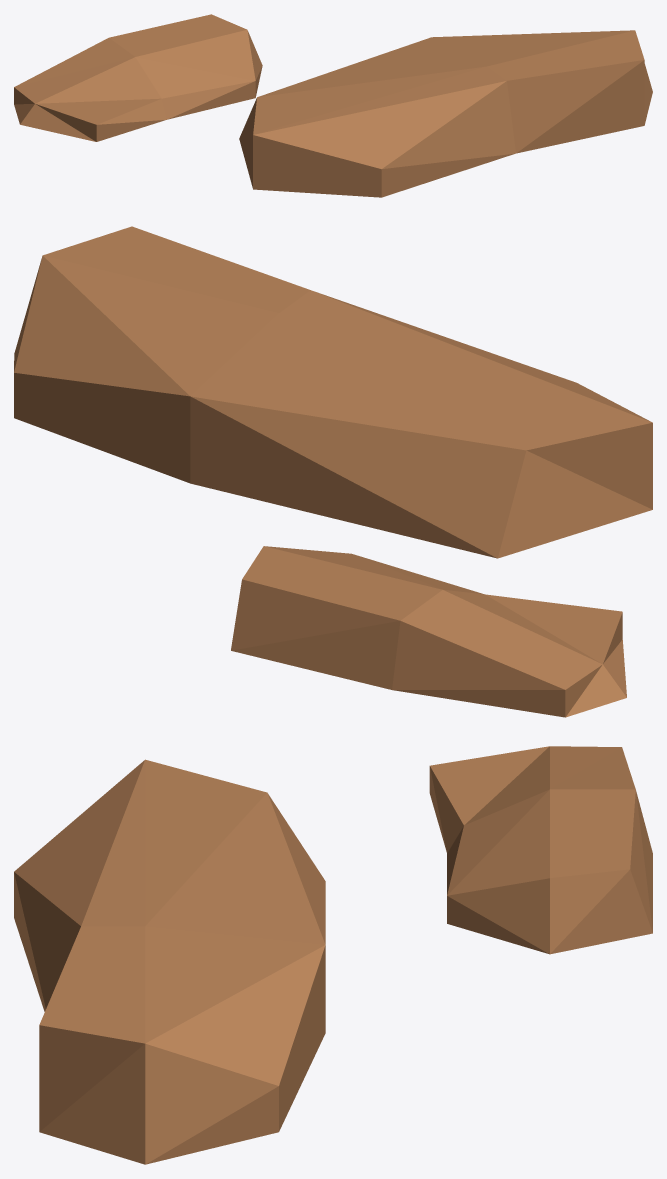
File: Rocks_2.fbx
3 views of the same model, one above another, from view 1: azimuth 30°, elevation 25°; view 2: azimuth 150°, elevation 25°; view 3: azimuth 270°, elevation 25° (orthographic). The views are drawn at different scales.
Parts seen in each view (by area): view 1: Rocks_2; view 2: Rocks_2; view 3: Rocks_2.
Boxes of the visible parts, bbox=[...] form: Rocks_2: bbox=[14, 14, 652, 197]; Rocks_2: bbox=[14, 226, 652, 717]; Rocks_2: bbox=[14, 746, 652, 1164].
Size of the model in its own units: 190 by 128 by 23.58.
